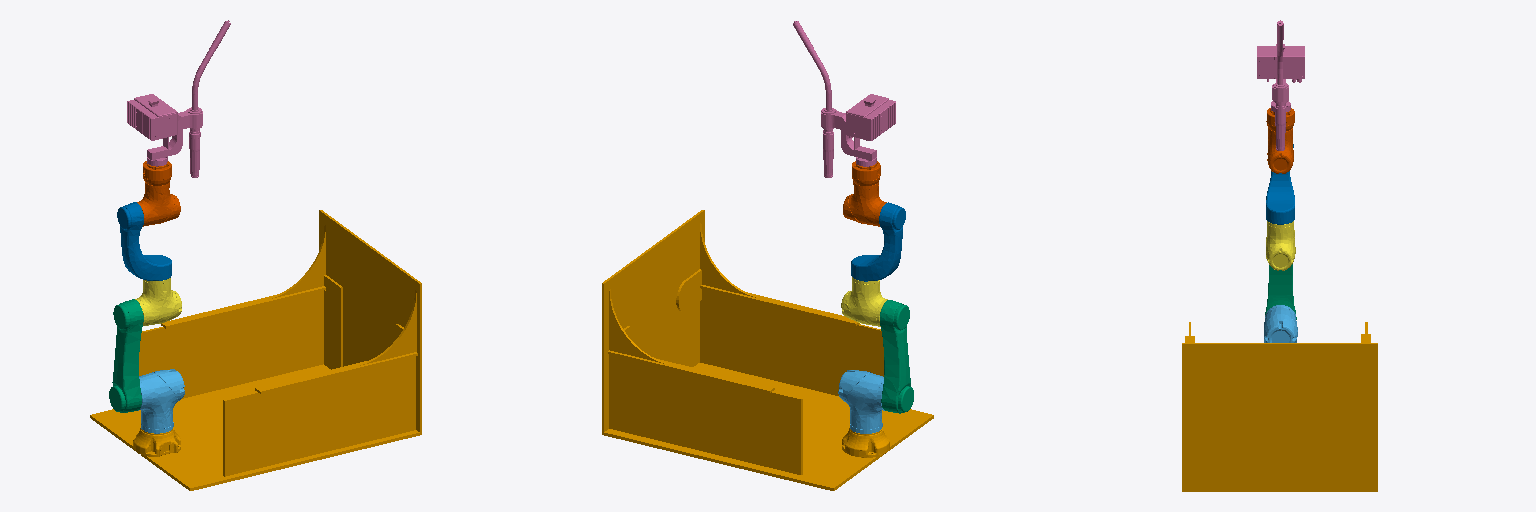
URDF robot description (generated_robot):
<?xml version="1.0"?>
<robot name="generated_robot">
  <link name="base_link">
    <inertial>
      <origin xyz="0.31833008 -0.00158495 0.22798504" rpy="0 0 0"/>
      <mass value="13.50630846"/>
      <inertia ixx="0.68657068" ixy="0" ixz="0" iyy="1.02280469" iyz="0" izz="1.14661252"/>
    </inertial>
    <visual name="part_001_visual_1">
      <origin xyz="0 0 0" rpy="1.57079633 0 0"/>
      <geometry><mesh filename="meshes/part_001_2.stl" scale="0.001 0.001 0.001"/></geometry>
    </visual>
    <collision name="part_001_collision_1">
      <origin xyz="0 0 0" rpy="1.57079633 0 0"/>
      <geometry><mesh filename="meshes/part_001_2.stl" scale="0.001 0.001 0.001"/></geometry>
    </collision>
    <visual name="part_033_visual_2">
      <origin xyz="0 0 0" rpy="1.57079633 0 0"/>
      <geometry><mesh filename="meshes/part_033_part.stl" scale="0.001 0.001 0.001"/></geometry>
    </visual>
    <collision name="part_033_collision_2">
      <origin xyz="0 0 0" rpy="1.57079633 0 0"/>
      <geometry><mesh filename="meshes/part_033_part.stl" scale="0.001 0.001 0.001"/></geometry>
    </collision>
  </link>
  <link name="link_002">
    <inertial>
      <origin xyz="-0.00167841 -0.00001724 0.15406916" rpy="0 0 0"/>
      <mass value="2.3534207"/>
      <inertia ixx="0.00905016" ixy="0" ixz="0" iyy="0.01213485" iyz="0" izz="0.007393"/>
    </inertial>
    <visual name="part_003_visual_1">
      <origin xyz="-0.0000015 -0.00001051 -0.00923081" rpy="1.57079633 0 0"/>
      <geometry><mesh filename="meshes/part_003_part_003.stl" scale="0.001 0.001 0.001"/></geometry>
    </visual>
    <collision name="part_003_collision_1">
      <origin xyz="-0.0000015 -0.00001051 -0.00923081" rpy="1.57079633 0 0"/>
      <geometry><mesh filename="meshes/part_003_part_003.stl" scale="0.001 0.001 0.001"/></geometry>
    </collision>
    <visual name="part_004_visual_2">
      <origin xyz="-0.0000015 -0.00001051 -0.00923081" rpy="1.57079633 0 0"/>
      <geometry><mesh filename="meshes/part_004_part_004.stl" scale="0.001 0.001 0.001"/></geometry>
    </visual>
    <collision name="part_004_collision_2">
      <origin xyz="-0.0000015 -0.00001051 -0.00923081" rpy="1.57079633 0 0"/>
      <geometry><mesh filename="meshes/part_004_part_004.stl" scale="0.001 0.001 0.001"/></geometry>
    </collision>
    <visual name="part_005_visual_3">
      <origin xyz="-0.0000015 -0.00001051 -0.00923081" rpy="1.57079633 0 0"/>
      <geometry><mesh filename="meshes/part_005_part_005.stl" scale="0.001 0.001 0.001"/></geometry>
    </visual>
    <collision name="part_005_collision_3">
      <origin xyz="-0.0000015 -0.00001051 -0.00923081" rpy="1.57079633 0 0"/>
      <geometry><mesh filename="meshes/part_005_part_005.stl" scale="0.001 0.001 0.001"/></geometry>
    </collision>
    <visual name="part_002_visual_4">
      <origin xyz="-0.0000015 -0.00001051 -0.00923081" rpy="1.57079633 0 0"/>
      <geometry><mesh filename="meshes/part_002_part_002.stl" scale="0.001 0.001 0.001"/></geometry>
    </visual>
    <collision name="part_002_collision_4">
      <origin xyz="-0.0000015 -0.00001051 -0.00923081" rpy="1.57079633 0 0"/>
      <geometry><mesh filename="meshes/part_002_part_002.stl" scale="0.001 0.001 0.001"/></geometry>
    </collision>
  </link>
  <link name="link_003">
    <inertial>
      <origin xyz="-0.00467619 0.00002065 0.13035747" rpy="0 0 0"/>
      <mass value="1.57812144"/>
      <inertia ixx="0.01818231" ixy="0" ixz="0" iyy="0.01764947" iyz="0" izz="0.00199266"/>
    </inertial>
    <visual name="part_006_visual_1">
      <origin xyz="0.10321138 0.00002065 -0.1927215" rpy="1.57079633 0 0"/>
      <geometry><mesh filename="meshes/part_006_1.stl" scale="0.001 0.001 0.001"/></geometry>
    </visual>
    <collision name="part_006_collision_1">
      <origin xyz="0.10321138 0.00002065 -0.1927215" rpy="1.57079633 0 0"/>
      <geometry><mesh filename="meshes/part_006_1.stl" scale="0.001 0.001 0.001"/></geometry>
    </collision>
    <visual name="part_007_visual_2">
      <origin xyz="0.10321138 0.00002065 -0.1927215" rpy="1.57079633 0 0"/>
      <geometry><mesh filename="meshes/part_007_2.stl" scale="0.001 0.001 0.001"/></geometry>
    </visual>
    <collision name="part_007_collision_2">
      <origin xyz="0.10321138 0.00002065 -0.1927215" rpy="1.57079633 0 0"/>
      <geometry><mesh filename="meshes/part_007_2.stl" scale="0.001 0.001 0.001"/></geometry>
    </collision>
    <visual name="part_008_visual_3">
      <origin xyz="0.10321138 0.00002065 -0.1927215" rpy="1.57079633 0 0"/>
      <geometry><mesh filename="meshes/part_008_3.stl" scale="0.001 0.001 0.001"/></geometry>
    </visual>
    <collision name="part_008_collision_3">
      <origin xyz="0.10321138 0.00002065 -0.1927215" rpy="1.57079633 0 0"/>
      <geometry><mesh filename="meshes/part_008_3.stl" scale="0.001 0.001 0.001"/></geometry>
    </collision>
  </link>
  <link name="link_004">
    <inertial>
      <origin xyz="0.07184154 -0.00000664 0.03004266" rpy="0 0 0"/>
      <mass value="1.64716568"/>
      <inertia ixx="0.00499786" ixy="0" ixz="0" iyy="0.00690612" iyz="0" izz="0.00424621"/>
    </inertial>
    <visual name="part_009_visual_1">
      <origin xyz="0.07549282 -4.5e-7 -0.45850034" rpy="1.57079633 0 0"/>
      <geometry><mesh filename="meshes/part_009_1.stl" scale="0.001 0.001 0.001"/></geometry>
    </visual>
    <collision name="part_009_collision_1">
      <origin xyz="0.07549282 -4.5e-7 -0.45850034" rpy="1.57079633 0 0"/>
      <geometry><mesh filename="meshes/part_009_1.stl" scale="0.001 0.001 0.001"/></geometry>
    </collision>
    <visual name="part_010_visual_2">
      <origin xyz="0.07549282 -4.5e-7 -0.45850034" rpy="1.57079633 0 0"/>
      <geometry><mesh filename="meshes/part_010_part_010.stl" scale="0.001 0.001 0.001"/></geometry>
    </visual>
    <collision name="part_010_collision_2">
      <origin xyz="0.07549282 -4.5e-7 -0.45850034" rpy="1.57079633 0 0"/>
      <geometry><mesh filename="meshes/part_010_part_010.stl" scale="0.001 0.001 0.001"/></geometry>
    </collision>
    <visual name="part_011_visual_3">
      <origin xyz="0.07549282 -4.5e-7 -0.45850034" rpy="1.57079633 0 0"/>
      <geometry><mesh filename="meshes/part_011_part_011.stl" scale="0.001 0.001 0.001"/></geometry>
    </visual>
    <collision name="part_011_collision_3">
      <origin xyz="0.07549282 -4.5e-7 -0.45850034" rpy="1.57079633 0 0"/>
      <geometry><mesh filename="meshes/part_011_part_011.stl" scale="0.001 0.001 0.001"/></geometry>
    </collision>
  </link>
  <link name="link_005">
    <inertial>
      <origin xyz="-0.03896233 -3.6e-7 0.10732247" rpy="0 0 0"/>
      <mass value="1.2108528"/>
      <inertia ixx="0.00726534" ixy="0" ixz="0" iyy="0.00919353" iyz="0" izz="0.00356284"/>
    </inertial>
    <visual name="part_012_visual_1">
      <origin xyz="-0.00000151 -3.6e-7 -0.59169721" rpy="1.57079633 0 0"/>
      <geometry><mesh filename="meshes/part_012_1.stl" scale="0.001 0.001 0.001"/></geometry>
    </visual>
    <collision name="part_012_collision_1">
      <origin xyz="-0.00000151 -3.6e-7 -0.59169721" rpy="1.57079633 0 0"/>
      <geometry><mesh filename="meshes/part_012_1.stl" scale="0.001 0.001 0.001"/></geometry>
    </collision>
    <visual name="part_013_visual_2">
      <origin xyz="-0.00000151 -3.6e-7 -0.59169721" rpy="1.57079633 0 0"/>
      <geometry><mesh filename="meshes/part_013_2.stl" scale="0.001 0.001 0.001"/></geometry>
    </visual>
    <collision name="part_013_collision_2">
      <origin xyz="-0.00000151 -3.6e-7 -0.59169721" rpy="1.57079633 0 0"/>
      <geometry><mesh filename="meshes/part_013_2.stl" scale="0.001 0.001 0.001"/></geometry>
    </collision>
  </link>
  <link name="link_006">
    <inertial>
      <origin xyz="0.03761933 0.00001099 0.04512775" rpy="0 0 0"/>
      <mass value="1.72526486"/>
      <inertia ixx="0.00671854" ixy="0" ixz="0" iyy="0.00846708" iyz="0" izz="0.00392456"/>
    </inertial>
    <visual name="part_015_visual_1">
      <origin xyz="0.04003303 -7e-8 -0.78250002" rpy="1.57079633 0 0"/>
      <geometry><mesh filename="meshes/part_015_part_015.stl" scale="0.001 0.001 0.001"/></geometry>
    </visual>
    <collision name="part_015_collision_1">
      <origin xyz="0.04003303 -7e-8 -0.78250002" rpy="1.57079633 0 0"/>
      <geometry><mesh filename="meshes/part_015_part_015.stl" scale="0.001 0.001 0.001"/></geometry>
    </collision>
    <visual name="part_020_visual_2">
      <origin xyz="0.04003303 -7e-8 -0.78250002" rpy="1.57079633 0 0"/>
      <geometry><mesh filename="meshes/part_020_3.stl" scale="0.001 0.001 0.001"/></geometry>
    </visual>
    <collision name="part_020_collision_2">
      <origin xyz="0.04003303 -7e-8 -0.78250002" rpy="1.57079633 0 0"/>
      <geometry><mesh filename="meshes/part_020_3.stl" scale="0.001 0.001 0.001"/></geometry>
    </collision>
    <visual name="part_019_visual_3">
      <origin xyz="0.04003303 -7e-8 -0.78250002" rpy="1.57079633 0 0"/>
      <geometry><mesh filename="meshes/part_019_2.stl" scale="0.001 0.001 0.001"/></geometry>
    </visual>
    <collision name="part_019_collision_3">
      <origin xyz="0.04003303 -7e-8 -0.78250002" rpy="1.57079633 0 0"/>
      <geometry><mesh filename="meshes/part_019_2.stl" scale="0.001 0.001 0.001"/></geometry>
    </collision>
    <visual name="part_018_visual_4">
      <origin xyz="0.04003303 -7e-8 -0.78250002" rpy="1.57079633 0 0"/>
      <geometry><mesh filename="meshes/part_018_1.stl" scale="0.001 0.001 0.001"/></geometry>
    </visual>
    <collision name="part_018_collision_4">
      <origin xyz="0.04003303 -7e-8 -0.78250002" rpy="1.57079633 0 0"/>
      <geometry><mesh filename="meshes/part_018_1.stl" scale="0.001 0.001 0.001"/></geometry>
    </collision>
    <visual name="part_014_visual_5">
      <origin xyz="0.04003303 -7e-8 -0.78250002" rpy="1.57079633 0 0"/>
      <geometry><mesh filename="meshes/part_014_part_014.stl" scale="0.001 0.001 0.001"/></geometry>
    </visual>
    <collision name="part_014_collision_5">
      <origin xyz="0.04003303 -7e-8 -0.78250002" rpy="1.57079633 0 0"/>
      <geometry><mesh filename="meshes/part_014_part_014.stl" scale="0.001 0.001 0.001"/></geometry>
    </collision>
    <visual name="part_017_visual_6">
      <origin xyz="0.04003303 -7e-8 -0.78250002" rpy="1.57079633 0 0"/>
      <geometry><mesh filename="meshes/part_017_part_017.stl" scale="0.001 0.001 0.001"/></geometry>
    </visual>
    <collision name="part_017_collision_6">
      <origin xyz="0.04003303 -7e-8 -0.78250002" rpy="1.57079633 0 0"/>
      <geometry><mesh filename="meshes/part_017_part_017.stl" scale="0.001 0.001 0.001"/></geometry>
    </collision>
    <visual name="part_016_visual_7">
      <origin xyz="0.04003303 -7e-8 -0.78250002" rpy="1.57079633 0 0"/>
      <geometry><mesh filename="meshes/part_016_part_016.stl" scale="0.001 0.001 0.001"/></geometry>
    </visual>
    <collision name="part_016_collision_7">
      <origin xyz="0.04003303 -7e-8 -0.78250002" rpy="1.57079633 0 0"/>
      <geometry><mesh filename="meshes/part_016_part_016.stl" scale="0.001 0.001 0.001"/></geometry>
    </collision>
  </link>
  <link name="link_007">
    <inertial>
      <origin xyz="0.02027542 -0.0000422 0.11557389" rpy="0 0 0"/>
      <mass value="1.71004082"/>
      <inertia ixx="0.03688469" ixy="0" ixz="0" iyy="0.04790737" iyz="0" izz="0.01726546"/>
    </inertial>
    <visual name="part_025_visual_1">
      <origin xyz="0.00027263 0 -0.94991729" rpy="1.57079633 0 0"/>
      <geometry><mesh filename="meshes/part_025_part_025.stl" scale="0.001 0.001 0.001"/></geometry>
    </visual>
    <collision name="part_025_collision_1">
      <origin xyz="0.00027263 0 -0.94991729" rpy="1.57079633 0 0"/>
      <geometry><mesh filename="meshes/part_025_part_025.stl" scale="0.001 0.001 0.001"/></geometry>
    </collision>
    <visual name="part_023_visual_2">
      <origin xyz="0.00027263 0 -0.94991729" rpy="1.57079633 0 0"/>
      <geometry><mesh filename="meshes/part_023_part.stl" scale="0.001 0.001 0.001"/></geometry>
    </visual>
    <collision name="part_023_collision_2">
      <origin xyz="0.00027263 0 -0.94991729" rpy="1.57079633 0 0"/>
      <geometry><mesh filename="meshes/part_023_part.stl" scale="0.001 0.001 0.001"/></geometry>
    </collision>
    <visual name="part_022_visual_3">
      <origin xyz="0.00027263 0 -0.94991729" rpy="1.57079633 0 0"/>
      <geometry><mesh filename="meshes/part_022_part_022.stl" scale="0.001 0.001 0.001"/></geometry>
    </visual>
    <collision name="part_022_collision_3">
      <origin xyz="0.00027263 0 -0.94991729" rpy="1.57079633 0 0"/>
      <geometry><mesh filename="meshes/part_022_part_022.stl" scale="0.001 0.001 0.001"/></geometry>
    </collision>
    <visual name="part_021_visual_4">
      <origin xyz="0.00027263 0 -0.94991729" rpy="1.57079633 0 0"/>
      <geometry><mesh filename="meshes/part_021_part_021.stl" scale="0.001 0.001 0.001"/></geometry>
    </visual>
    <collision name="part_021_collision_4">
      <origin xyz="0.00027263 0 -0.94991729" rpy="1.57079633 0 0"/>
      <geometry><mesh filename="meshes/part_021_part_021.stl" scale="0.001 0.001 0.001"/></geometry>
    </collision>
    <visual name="part_024_visual_5">
      <origin xyz="0.00027263 0 -0.94991729" rpy="1.57079633 0 0"/>
      <geometry><mesh filename="meshes/part_024_part.stl" scale="0.001 0.001 0.001"/></geometry>
    </visual>
    <collision name="part_024_collision_5">
      <origin xyz="0.00027263 0 -0.94991729" rpy="1.57079633 0 0"/>
      <geometry><mesh filename="meshes/part_024_part.stl" scale="0.001 0.001 0.001"/></geometry>
    </collision>
    <visual name="part_030_visual_6">
      <origin xyz="0.00027263 0 -0.94991729" rpy="1.57079633 0 0"/>
      <geometry><mesh filename="meshes/part_030_M2600.stl" scale="0.001 0.001 0.001"/></geometry>
    </visual>
    <collision name="part_030_collision_6">
      <origin xyz="0.00027263 0 -0.94991729" rpy="1.57079633 0 0"/>
      <geometry><mesh filename="meshes/part_030_M2600.stl" scale="0.001 0.001 0.001"/></geometry>
    </collision>
    <visual name="part_031_visual_7">
      <origin xyz="0.00027263 0 -0.94991729" rpy="1.57079633 0 0"/>
      <geometry><mesh filename="meshes/part_031_M2600.stl" scale="0.001 0.001 0.001"/></geometry>
    </visual>
    <collision name="part_031_collision_7">
      <origin xyz="0.00027263 0 -0.94991729" rpy="1.57079633 0 0"/>
      <geometry><mesh filename="meshes/part_031_M2600.stl" scale="0.001 0.001 0.001"/></geometry>
    </collision>
    <visual name="part_029_visual_8">
      <origin xyz="0.00027263 0 -0.94991729" rpy="1.57079633 0 0"/>
      <geometry><mesh filename="meshes/part_029_part_029.stl" scale="0.001 0.001 0.001"/></geometry>
    </visual>
    <collision name="part_029_collision_8">
      <origin xyz="0.00027263 0 -0.94991729" rpy="1.57079633 0 0"/>
      <geometry><mesh filename="meshes/part_029_part_029.stl" scale="0.001 0.001 0.001"/></geometry>
    </collision>
    <visual name="part_027_visual_9">
      <origin xyz="0.00027263 0 -0.94991729" rpy="1.57079633 0 0"/>
      <geometry><mesh filename="meshes/part_027_part_027.stl" scale="0.001 0.001 0.001"/></geometry>
    </visual>
    <collision name="part_027_collision_9">
      <origin xyz="0.00027263 0 -0.94991729" rpy="1.57079633 0 0"/>
      <geometry><mesh filename="meshes/part_027_part_027.stl" scale="0.001 0.001 0.001"/></geometry>
    </collision>
    <visual name="part_032_visual_10">
      <origin xyz="0.00027263 0 -0.94991729" rpy="1.57079633 0 0"/>
      <geometry><mesh filename="meshes/part_032_400-1000.stl" scale="0.001 0.001 0.001"/></geometry>
    </visual>
    <collision name="part_032_collision_10">
      <origin xyz="0.00027263 0 -0.94991729" rpy="1.57079633 0 0"/>
      <geometry><mesh filename="meshes/part_032_400-1000.stl" scale="0.001 0.001 0.001"/></geometry>
    </collision>
    <visual name="part_026_visual_11">
      <origin xyz="0.00027263 0 -0.94991729" rpy="1.57079633 0 0"/>
      <geometry><mesh filename="meshes/part_026_part_026.stl" scale="0.001 0.001 0.001"/></geometry>
    </visual>
    <collision name="part_026_collision_11">
      <origin xyz="0.00027263 0 -0.94991729" rpy="1.57079633 0 0"/>
      <geometry><mesh filename="meshes/part_026_part_026.stl" scale="0.001 0.001 0.001"/></geometry>
    </collision>
    <visual name="part_028_visual_12">
      <origin xyz="0.00027263 0 -0.94991729" rpy="1.57079633 0 0"/>
      <geometry><mesh filename="meshes/part_028_part_028.stl" scale="0.001 0.001 0.001"/></geometry>
    </visual>
    <collision name="part_028_collision_12">
      <origin xyz="0.00027263 0 -0.94991729" rpy="1.57079633 0 0"/>
      <geometry><mesh filename="meshes/part_028_part_028.stl" scale="0.001 0.001 0.001"/></geometry>
    </collision>
  </link>
  <joint name="joint_001" type="revolute">
    <parent link="base_link"/>
    <child link="link_002"/>
    <origin xyz="0.0000015 0.00001051 0.00923081" rpy="0 0 0"/>
    <axis xyz="-0.00640259 0.00316878 -0.99997448"/>
    <limit lower="-1.57" upper="1.57" effort="10" velocity="5"/>
  </joint>
  <joint name="joint_002" type="revolute">
    <parent link="link_002"/>
    <child link="link_003"/>
    <origin xyz="-0.10321288 -0.00003116 0.18349069" rpy="0 0 0"/>
    <axis xyz="-0.99639056 0.00001539 0.0848873"/>
    <limit lower="-1.57" upper="1.57" effort="10" velocity="5"/>
  </joint>
  <joint name="joint_003" type="revolute">
    <parent link="link_003"/>
    <child link="link_004"/>
    <origin xyz="0.02771856 0.0000211 0.26577884" rpy="0 0 0"/>
    <axis xyz="0.99998553 -0.00476279 -0.0024997"/>
    <limit lower="-1.57" upper="1.57" effort="10" velocity="5"/>
  </joint>
  <joint name="joint_004" type="revolute">
    <parent link="link_004"/>
    <child link="link_005"/>
    <origin xyz="0.07549433 -9e-8 0.13319687" rpy="0 0 0"/>
    <axis xyz="-0.00000473 -0.00073656 0.99999973"/>
    <limit lower="-1.57" upper="1.57" effort="10" velocity="5"/>
  </joint>
  <joint name="joint_005" type="revolute">
    <parent link="link_005"/>
    <child link="link_006"/>
    <origin xyz="-0.04003453 -2.9e-7 0.19080281" rpy="0 0 0"/>
    <axis xyz="-0.99999743 0.00223097 -0.00041457"/>
    <limit lower="-1.57" upper="1.57" effort="10" velocity="5"/>
  </joint>
  <joint name="joint_006" type="revolute">
    <parent link="link_006"/>
    <child link="link_007"/>
    <origin xyz="0.03976039 -7e-8 0.16741727" rpy="0 0 0"/>
    <axis xyz="0 0 1"/>
    <limit lower="-1.57" upper="1.57" effort="10" velocity="5"/>
  </joint>
</robot>

--- Render facts (derived) ---
3 views of the same robot in one strip: view 1: azimuth 30°, elevation 25°; view 2: azimuth 150°, elevation 25°; view 3: azimuth 270°, elevation 25° (orthographic).
Robot: generated_robot — 7 links, 6 joints (6 revolute); root link base_link; default pose: all joints at 0.
Links seen in each view (by area): view 1: base_link, link_007, link_003, link_002, link_005, link_006, link_004; view 2: base_link, link_007, link_003, link_002, link_005, link_006, link_004; view 3: base_link, link_007, link_005, link_004, link_006, link_002, link_003.
Link boxes in pixels (<box>): base_link: <box>90,210,421,490</box>; link_007: <box>127,20,230,177</box>; link_003: <box>109,299,143,412</box>; link_002: <box>138,369,184,433</box>; link_005: <box>117,202,171,280</box>; link_006: <box>137,161,180,226</box>; link_004: <box>135,278,181,325</box>; base_link: <box>602,210,933,490</box>; link_007: <box>793,21,895,177</box>; link_003: <box>880,300,913,413</box>; link_002: <box>838,370,884,433</box>; link_005: <box>851,202,905,281</box>; link_006: <box>843,161,886,226</box>; link_004: <box>841,277,887,326</box>; base_link: <box>1182,322,1377,491</box>; link_007: <box>1257,20,1304,150</box>; link_005: <box>1266,144,1294,224</box>; link_004: <box>1266,221,1295,270</box>; link_006: <box>1266,108,1294,173</box>; link_002: <box>1264,305,1297,342</box>; link_003: <box>1265,264,1296,319</box>.
Bounding box of the posed robot: 0.8852 × 0.6 × 1.36 m (x, y, z).
Meshes: 33 distinct files referenced, 33 mesh visuals loaded (33 binary STL).
